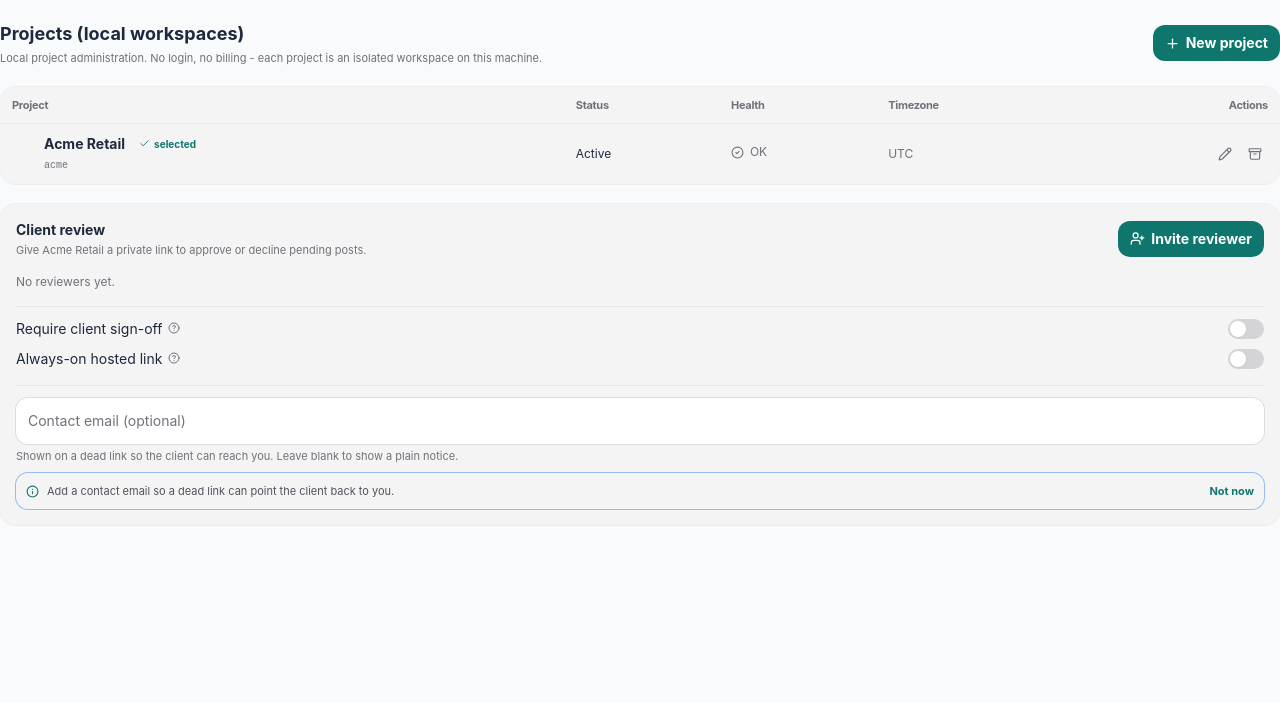
Test case: Clients new-client form › rejects an invalid slug and does not submit
Click the button "New project": {"x": 1216, "y": 43} [1153,25,1279,61]
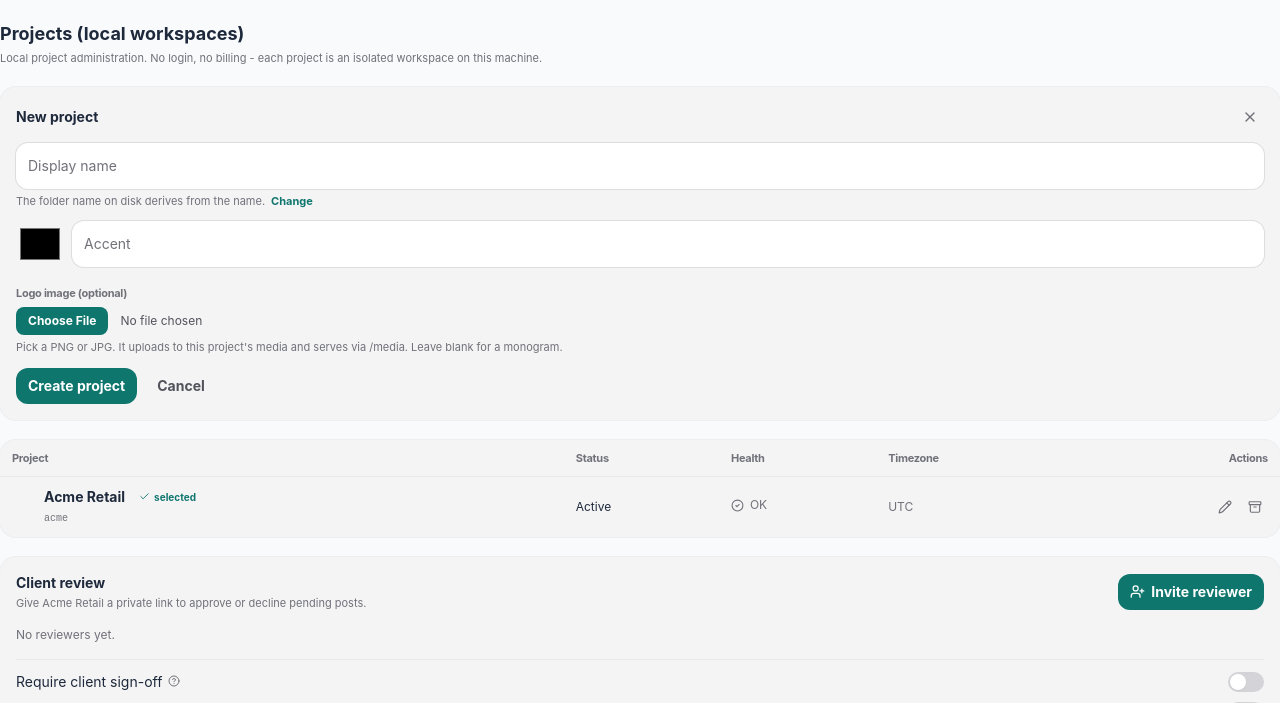
In the field labelled "Display name": {"x": 640, "y": 166} [16,142,1264,188], type "Bad Slug"
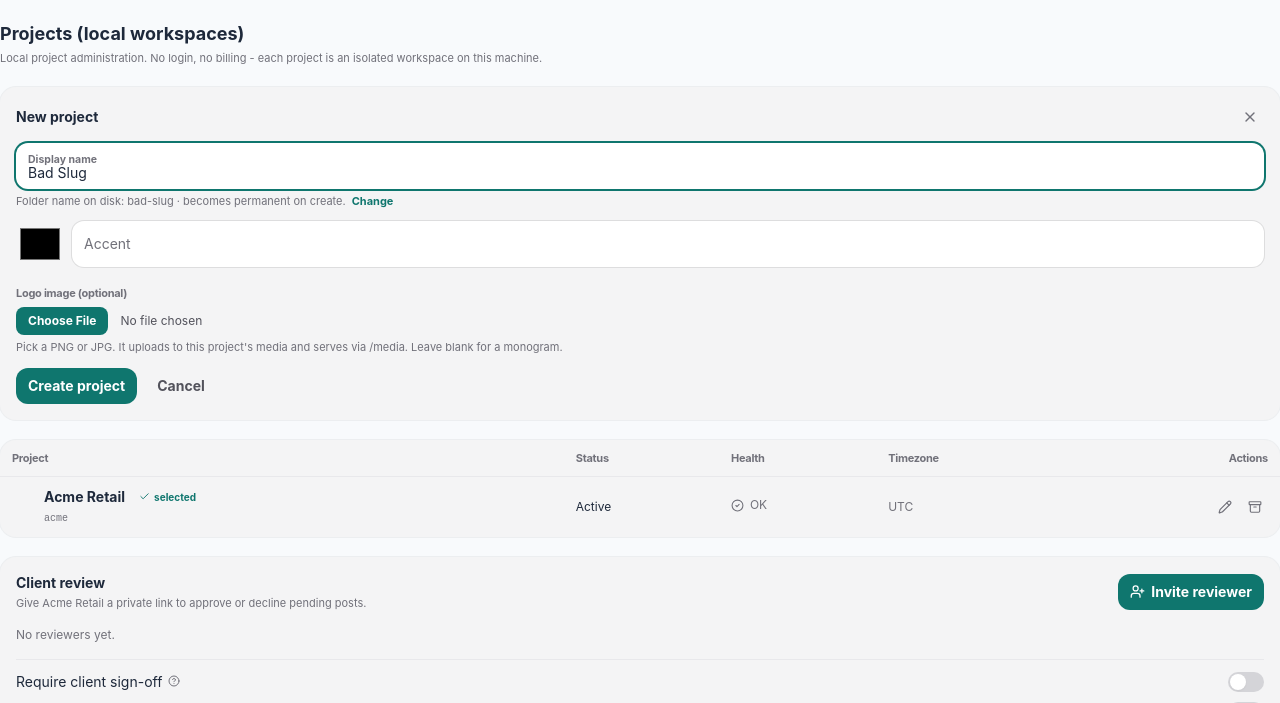
Click the button "Change": {"x": 373, "y": 201} [352,192,393,209]
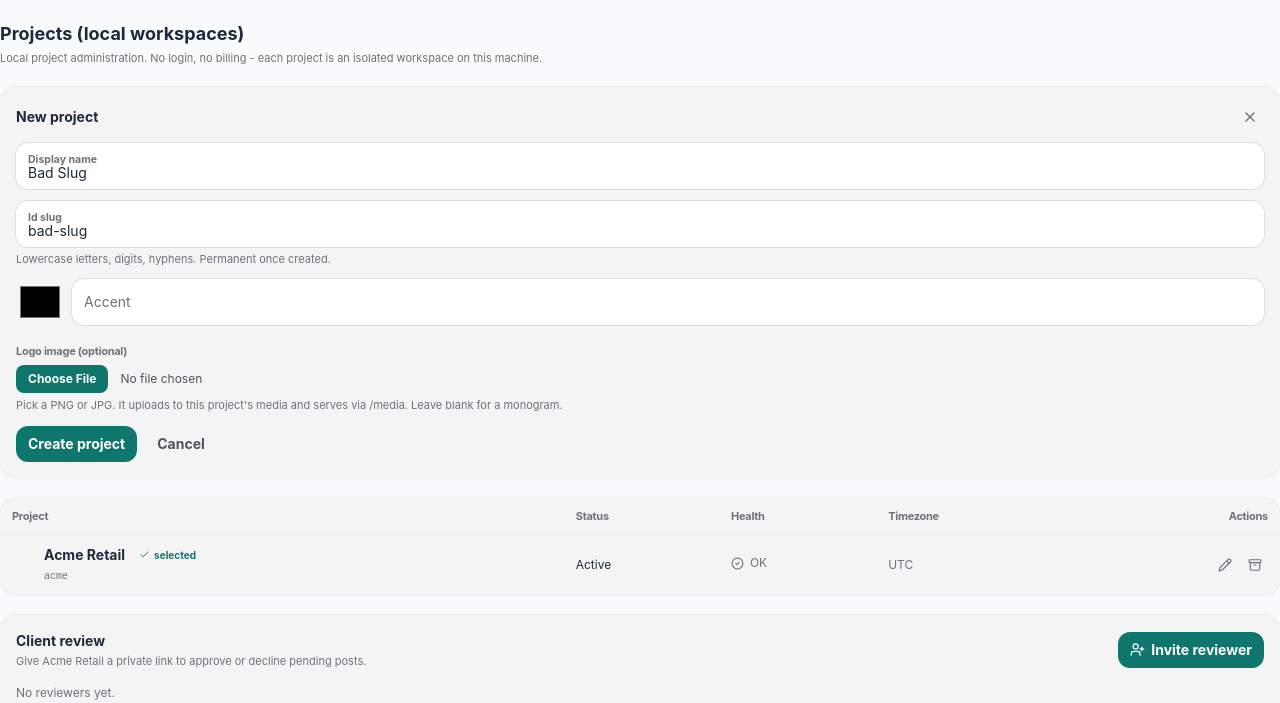
Replace the text in the field labelled "Id slug" with "Bad Slug!": {"x": 640, "y": 224} [16,200,1264,246]
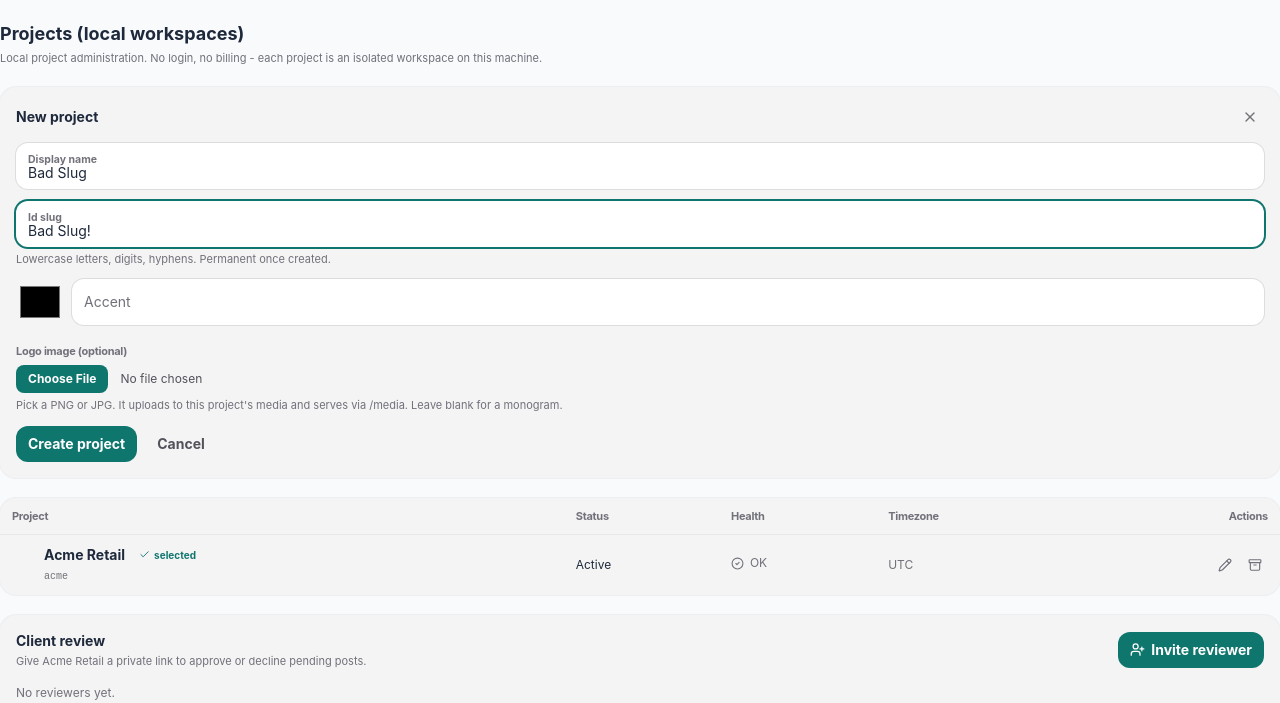
Click the button "Create project": {"x": 77, "y": 444} [16,426,137,462]
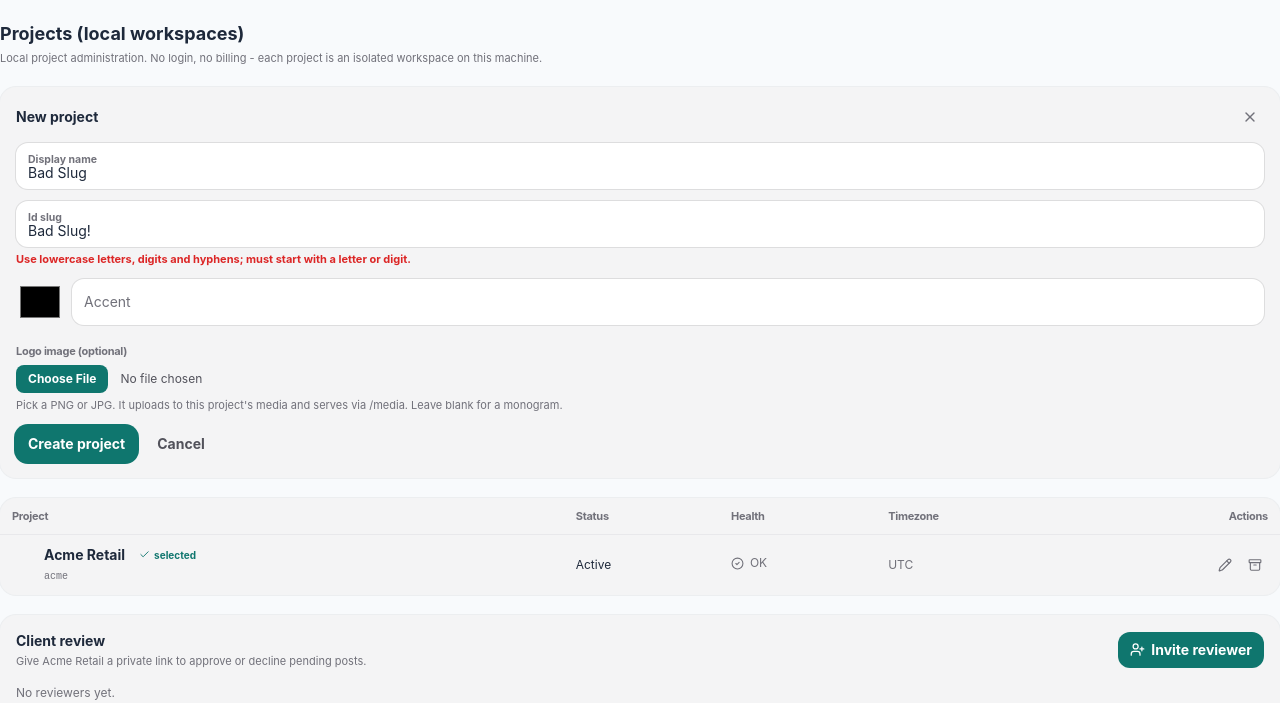
Expected: the text "Use lowercase letters, digits and hyphens; must start with a letter or digit." is shown, [16,252,411,266]
